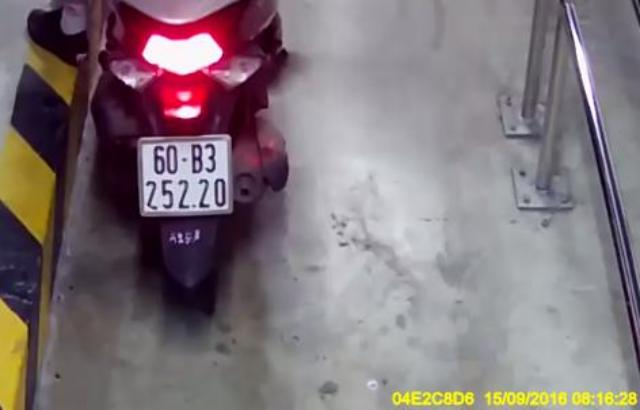plate: (130, 128, 246, 220)
